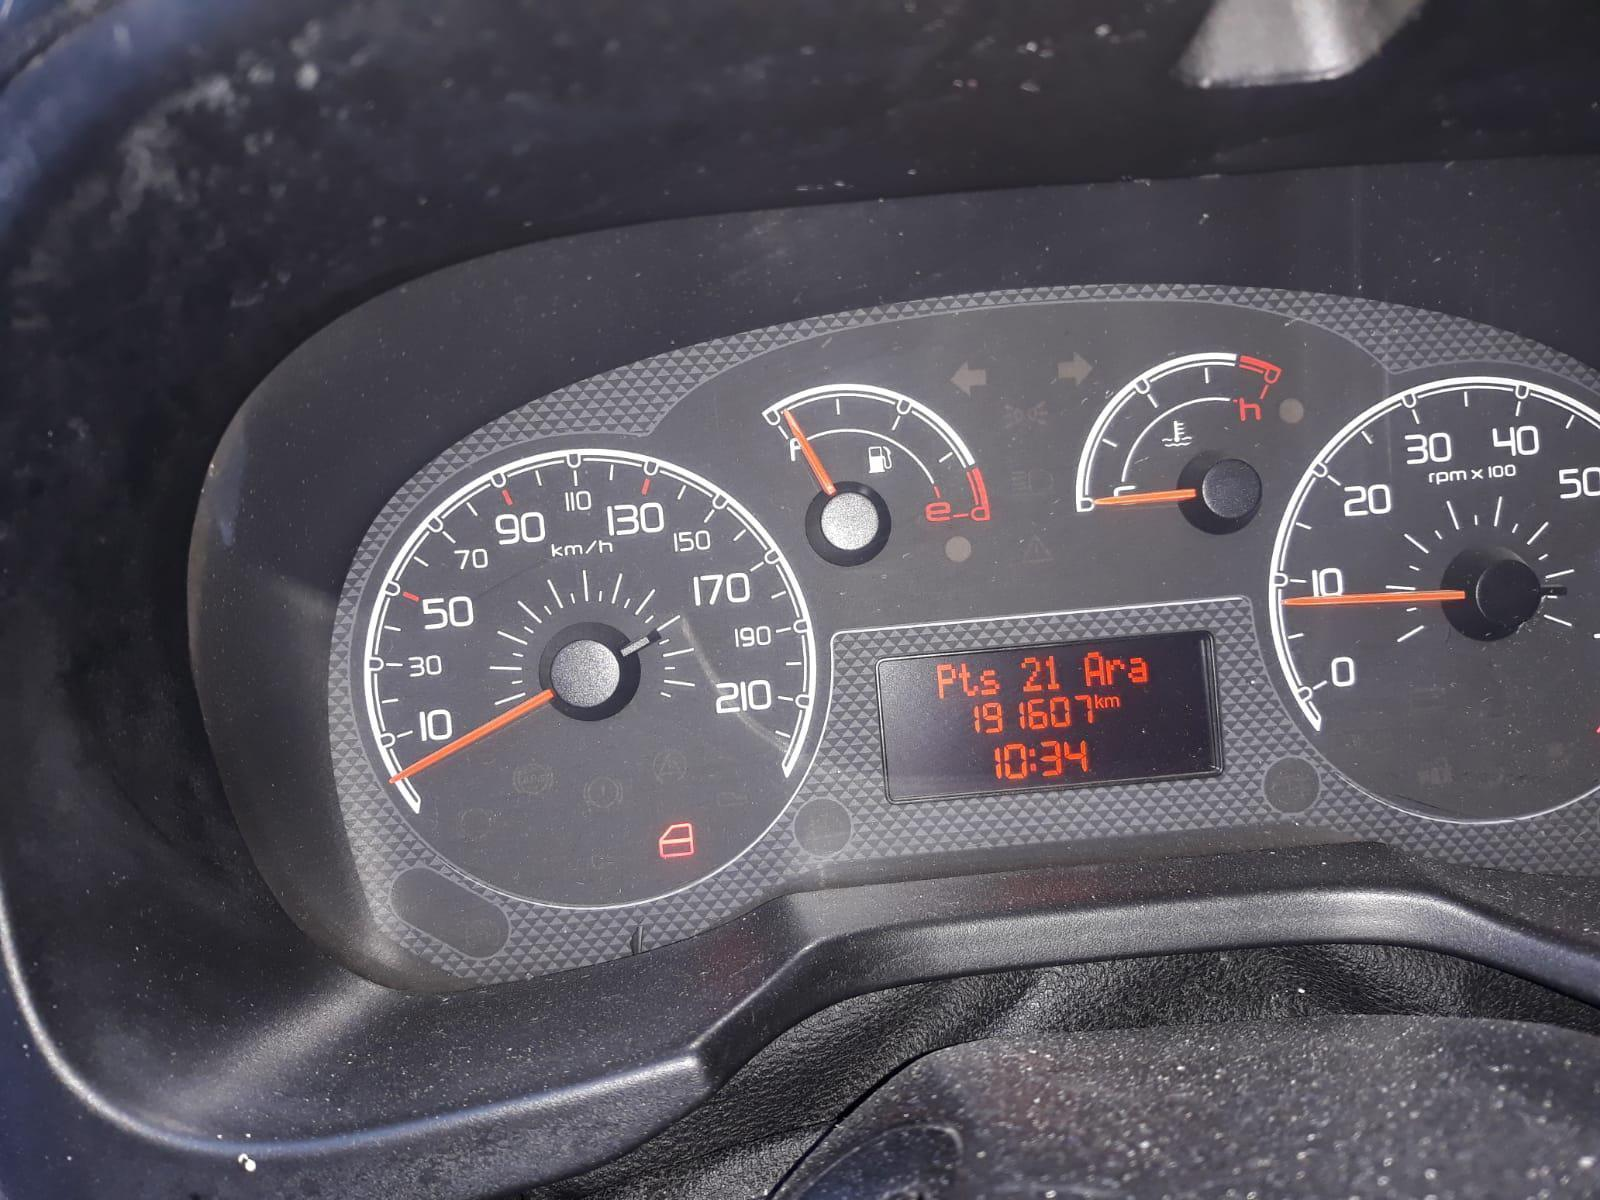0: (1003, 741, 1027, 782), (1048, 693, 1072, 734)
1: (1044, 653, 1063, 692), (991, 745, 1002, 783), (1015, 697, 1026, 734), (971, 703, 980, 737)
2: (1020, 654, 1044, 693)
3: (1039, 739, 1062, 776)
4: (1063, 737, 1091, 773)
6: (1028, 697, 1047, 731)
7: (1073, 693, 1094, 725)
9: (981, 702, 1004, 737)
X: (934, 658, 956, 702), (1082, 647, 1104, 689), (955, 661, 978, 701), (1128, 654, 1151, 687), (978, 666, 999, 698), (1105, 655, 1124, 686), (1027, 744, 1039, 779), (1104, 695, 1123, 708), (1092, 691, 1104, 708)
odometer: (873, 626, 1227, 807)
